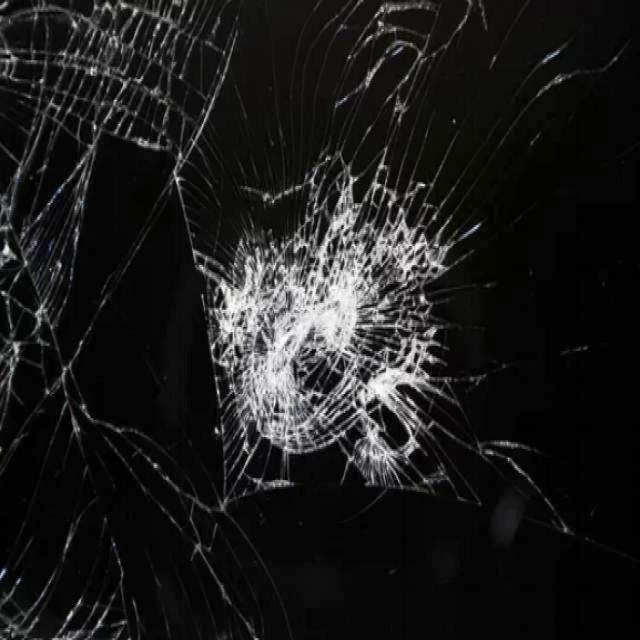Crack: (177, 159, 545, 552)
